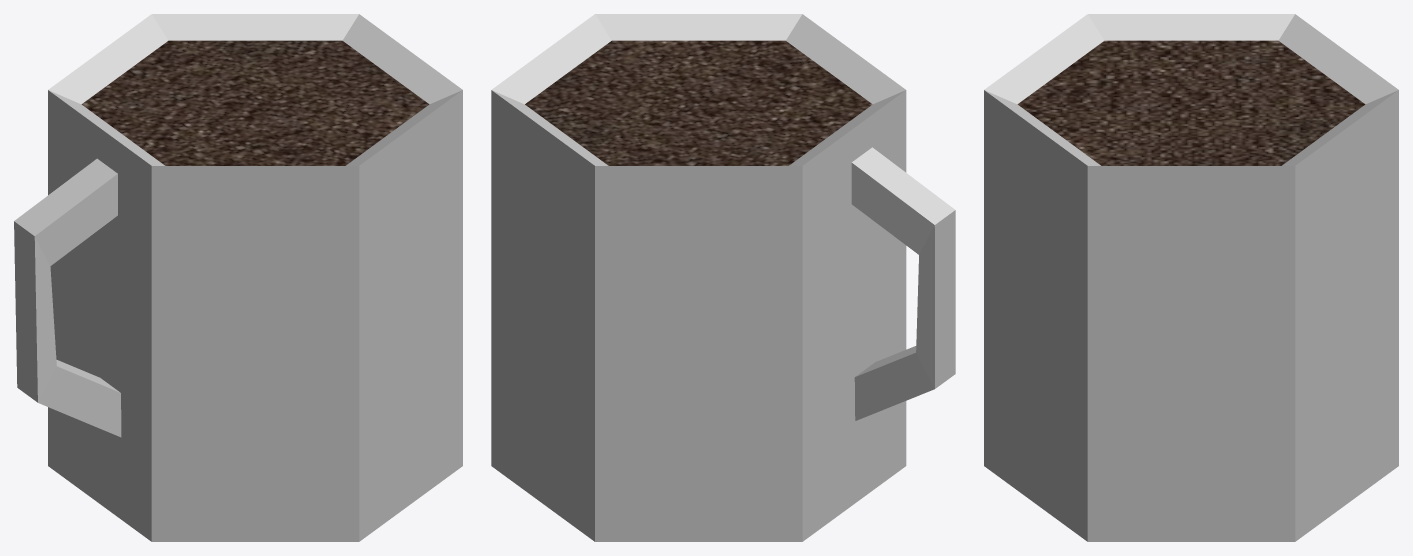
File: CofeeMug.fbx
3 views of the same model, side by side, from view 1: azimuth 30°, elevation 25°; view 2: azimuth 150°, elevation 25°; view 3: azimuth 270°, elevation 25° (orthographic).
Parts seen in each view (by area): view 1: Cylinder; view 2: Cylinder; view 3: Cylinder.
Boxes of the visible parts, box(x1,y1,x2,y2) form: Cylinder: box(14, 14, 462, 541); Cylinder: box(491, 14, 955, 541); Cylinder: box(984, 14, 1398, 541).
Size of the model in its own units: 21.95 by 20 by 20.
2 materials, 1 textured.
